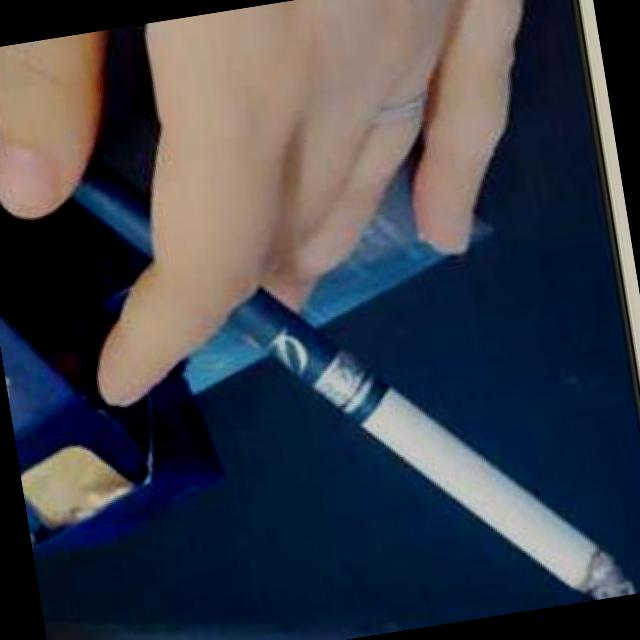smoke: (355, 364, 640, 632)
